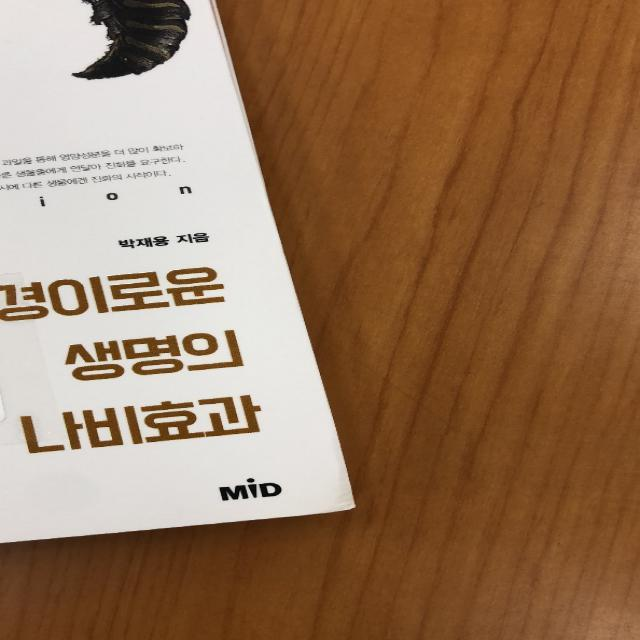Wornout: (331, 455, 360, 515)
